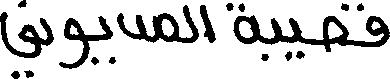X: (0, 0, 38, 78), (61, 13, 88, 73), (324, 0, 347, 56), (235, 0, 258, 48), (117, 8, 143, 44), (367, 11, 389, 51), (154, 8, 176, 46), (199, 0, 213, 47), (184, 0, 197, 47), (100, 11, 110, 67), (292, 13, 299, 63), (42, 13, 51, 50), (271, 13, 279, 49)
